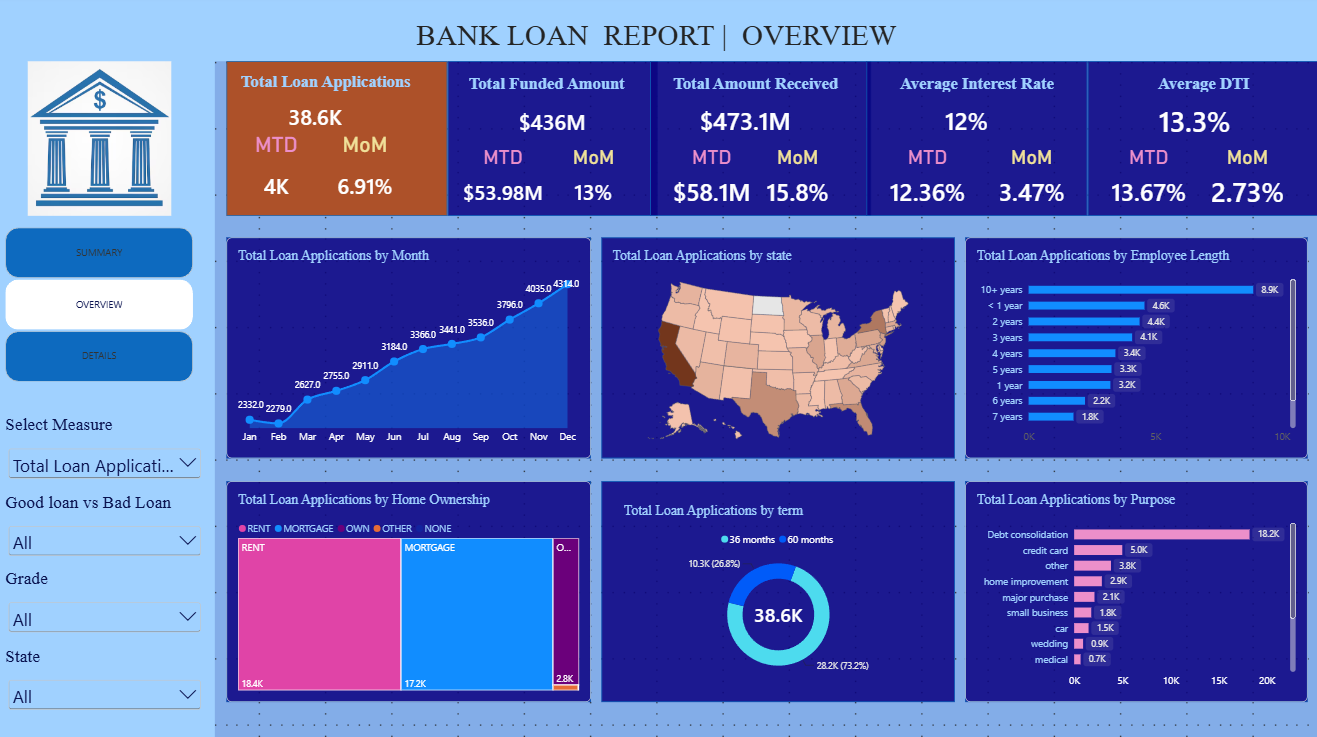

What the dashboard file says about the page in this screenshot:
{"tool":"powerbi","page":{"name":"OVERVIEW","canvas":[1920,1080],"ordinal":1},"visuals":[{"type":"shape","box":[0,88,320,992],"z":0},{"type":"shape","box":[336,96,320,224],"z":0,"group":"g1"},{"type":"shape","box":[656,96,304,224],"z":0,"group":"g6"},{"type":"shape","box":[951.6,96,320,224],"z":0,"group":"g3"},{"type":"shape","box":[1264,96,320,224],"z":0,"group":"g4"},{"type":"shape","box":[1584,96,336,224],"z":0,"group":"g5"},{"type":"shape","box":[880,704,512,320],"z":0,"group":"g7"},{"type":"shape","box":[0,0,1920,96],"z":1000},{"type":"textbox","box":[624,113.2,352,34.5],"z":1000,"group":"g6"},{"type":"cardVisual","fields":{"Data":["bank_loan_data.Total Loan Applications"]},"box":[350.5,127.8,228.6,95.4],"z":1000,"group":"g1"},{"type":"cardVisual","fields":{"Data":["bank_loan_data.Total Aount Received"]},"box":[974.5,130.5,228.6,103.4],"z":1000,"group":"g3"},{"type":"cardVisual","fields":{"Data":["bank_loan_data.Average Interest Rate"]},"box":[1294.5,130.5,228.6,103.4],"z":1000,"group":"g4"},{"type":"cardVisual","fields":{"Data":["bank_loan_data.Average DTI"]},"box":[1616,130.5,240,103.4],"z":1000,"group":"g5"},{"type":"donutChart","fields":{"Category":["bank_loan_data.term"],"Y":["bank_loan_data.Total Loan Applications"]},"box":[896,720,480,288],"z":1000,"group":"g7"},{"type":"textbox","box":[0,32,1920,64],"z":2000},{"type":"textbox","box":[320,111.9,320,31.8],"z":2000,"group":"g1"},{"type":"textbox","box":[944,113.2,320,34.5],"z":2000,"group":"g3"},{"type":"textbox","box":[1264,113.2,320,34.5],"z":2000,"group":"g4"},{"type":"textbox","box":[1584,113.2,336,34.5],"z":2000,"group":"g5"},{"type":"cardVisual","title":"MoM","fields":{"Data":["bank_loan_data.MoM Total Funded Amount"]},"box":[791.6,216.6,150.9,86.2],"z":2000,"group":"g6"},{"type":"group","id":"g1","title":"Group 1","box":[320,96,336,224],"z":3000},{"type":"cardVisual","fields":{"Data":["bank_loan_data.Total Funded Amount"]},"box":[720,147.7,176,68.9],"z":3000,"group":"g6"},{"type":"cardVisual","title":"MTD","fields":{"Data":["bank_loan_data.MTD Loan Applications"]},"box":[336,199.4,144,103.4],"z":3000,"group":"g1"},{"type":"cardVisual","title":"MTD","fields":{"Data":["bank_loan_data.MTD Total Amount Received"]},"box":[960,216.6,160,86.2],"z":3000,"group":"g3"},{"type":"cardVisual","title":"MTD","fields":{"Data":["bank_loan_data.MTD Average Interest Rate"]},"box":[1280,216.6,144,86.2],"z":3000,"group":"g4"},{"type":"cardVisual","title":"MTD","fields":{"Data":["bank_loan_data.MTD Average DTI"]},"box":[1600,216.6,144,86.2],"z":3000,"group":"g5"},{"type":"group","id":"g2","title":"Group 1","box":[624,96,352,224],"z":4000},{"type":"cardVisual","title":"MoM","fields":{"Data":["bank_loan_data.MoM Loan Applications"]},"box":[464,199.4,144,103.4],"z":4000,"group":"g1"},{"type":"cardVisual","title":"MTD","fields":{"Data":["bank_loan_data.MTD Funded Amount"]},"box":[656,216.6,160,86.2],"z":4000,"group":"g6"},{"type":"cardVisual","title":"MoM","fields":{"Data":["bank_loan_data.Mom Loan Received"]},"box":[1096.4,216.6,137.1,86.2],"z":4000,"group":"g3"},{"type":"cardVisual","title":"MoM","fields":{"Data":["bank_loan_data.MoM Avg Int Rate"]},"box":[1424,216.6,160,86.2],"z":4000,"group":"g4"},{"type":"cardVisual","title":"MoM","fields":{"Data":["bank_loan_data.MoM Average DTI"]},"box":[1744,216.6,144,86.2],"z":4000,"group":"g5"},{"type":"shape","box":[336,352,528,320],"z":5000},{"type":"group","id":"g3","title":"Group 1","box":[944,96,320,224],"z":6000},{"type":"group","id":"g4","title":"Group 1","box":[1264,96,320,224],"z":7000},{"type":"group","id":"g5","title":"Group 1","box":[1584,96,336,224],"z":8000},{"type":"slicer","title":"Good loan vs Bad Loan","fields":{"Values":["bank_loan_data.Good vs Bad Loan"]},"box":[16,720,288,96],"z":9000},{"type":"slicer","title":"Grade","fields":{"Values":["bank_loan_data.grade"]},"box":[16,832,288,96],"z":10000},{"type":"slicer","title":"State","fields":{"Values":["bank_loan_data.address_state"]},"box":[16,944,288,112],"z":11000},{"type":"group","id":"g6","title":"Group 2","box":[624,96,352,224],"z":11001,"group":"g2"},{"type":"areaChart","fields":{"Category":["DateTable.Month"],"Y":["bank_loan_data.Total Loan Applications"]},"box":[336,352,528,320],"z":12000},{"type":"slicer","title":"Select Measure","fields":{"Values":["Select Measure.Select Measure"]},"box":[16,608,288,96],"z":13000},{"type":"shape","box":[880,352,512,320],"z":14000},{"type":"shape","box":[336,704,528,320],"z":15000},{"type":"shapeMap","fields":{"Category":["bank_loan_data.address_state"],"Value":["bank_loan_data.Total Loan Applications"]},"box":[880,352,512,320],"z":16000},{"type":"shape","box":[1408,704,496,320],"z":17000},{"type":"shape","box":[1408,352,496,320],"z":18000},{"type":"group","id":"g7","title":"Group 3","box":[880,704,512,320],"z":19000},{"type":"barChart","fields":{"Category":["bank_loan_data.emp_length"],"Y":["bank_loan_data.Total Loan Applications"]},"box":[1408,352,496,320],"z":20000},{"type":"barChart","fields":{"Category":["bank_loan_data.purpose"],"Y":["bank_loan_data.Total Loan Applications"]},"box":[1408,704,496,320],"z":21000},{"type":"treemap","fields":{"Group":["bank_loan_data.home_ownership"],"Values":["bank_loan_data.Total Loan Applications"]},"box":[336,704,528,320],"z":22000},{"type":"image","box":[48,96,208,224],"z":23000},{"type":"pageNavigator","box":[16,336,272,224],"z":24000}]}

Visuals, with their boxes in screenshot pixels (x1, y1, x2, y2), scaled from the page's 1920x1080 canvas onto the 1317x737 screenshot:
shape: BBox(0, 60, 220, 736)
shape: BBox(230, 66, 450, 218)
shape: BBox(450, 66, 658, 218)
shape: BBox(653, 66, 872, 218)
shape: BBox(867, 66, 1087, 218)
shape: BBox(1087, 66, 1316, 218)
shape: BBox(604, 480, 955, 699)
shape: BBox(0, 0, 1316, 66)
textbox: BBox(428, 77, 669, 101)
cardVisual - bank_loan_data.Total Loan Applications: BBox(240, 87, 397, 152)
cardVisual - bank_loan_data.Total Aount Received: BBox(668, 89, 825, 160)
cardVisual - bank_loan_data.Average Interest Rate: BBox(888, 89, 1045, 160)
cardVisual - bank_loan_data.Average DTI: BBox(1108, 89, 1273, 160)
donutChart - bank_loan_data.term x bank_loan_data.Total Loan Applications: BBox(615, 491, 944, 688)
textbox: BBox(0, 22, 1316, 66)
textbox: BBox(220, 76, 439, 98)
textbox: BBox(648, 77, 867, 101)
textbox: BBox(867, 77, 1087, 101)
textbox: BBox(1087, 77, 1316, 101)
"MoM" cardVisual: BBox(543, 148, 646, 207)
"Group 1" group: BBox(220, 66, 450, 218)
cardVisual - bank_loan_data.Total Funded Amount: BBox(494, 101, 615, 148)
"MTD" cardVisual: BBox(230, 136, 329, 207)
"MTD" cardVisual: BBox(658, 148, 768, 207)
"MTD" cardVisual: BBox(878, 148, 977, 207)
"MTD" cardVisual: BBox(1098, 148, 1196, 207)
"Group 1" group: BBox(428, 66, 669, 218)
"MoM" cardVisual: BBox(318, 136, 417, 207)
"MTD" cardVisual: BBox(450, 148, 560, 207)
"MoM" cardVisual: BBox(752, 148, 846, 207)
"MoM" cardVisual: BBox(977, 148, 1087, 207)
"MoM" cardVisual: BBox(1196, 148, 1295, 207)
shape: BBox(230, 240, 593, 459)
"Group 1" group: BBox(648, 66, 867, 218)
"Group 1" group: BBox(867, 66, 1087, 218)
"Group 1" group: BBox(1087, 66, 1316, 218)
"Good loan vs Bad Loan" slicer: BBox(11, 491, 209, 557)
"Grade" slicer: BBox(11, 568, 209, 633)
"State" slicer: BBox(11, 644, 209, 721)
"Group 2" group: BBox(428, 66, 669, 218)
areaChart - DateTable.Month x bank_loan_data.Total Loan Applications: BBox(230, 240, 593, 459)
"Select Measure" slicer: BBox(11, 415, 209, 480)
shape: BBox(604, 240, 955, 459)
shape: BBox(230, 480, 593, 699)
shapeMap - bank_loan_data.address_state x bank_loan_data.Total Loan Applications: BBox(604, 240, 955, 459)
shape: BBox(966, 480, 1306, 699)
shape: BBox(966, 240, 1306, 459)
"Group 3" group: BBox(604, 480, 955, 699)
barChart - bank_loan_data.emp_length x bank_loan_data.Total Loan Applications: BBox(966, 240, 1306, 459)
barChart - bank_loan_data.purpose x bank_loan_data.Total Loan Applications: BBox(966, 480, 1306, 699)
treemap - bank_loan_data.home_ownership x bank_loan_data.Total Loan Applications: BBox(230, 480, 593, 699)
image: BBox(33, 66, 176, 218)
pageNavigator: BBox(11, 229, 198, 382)
